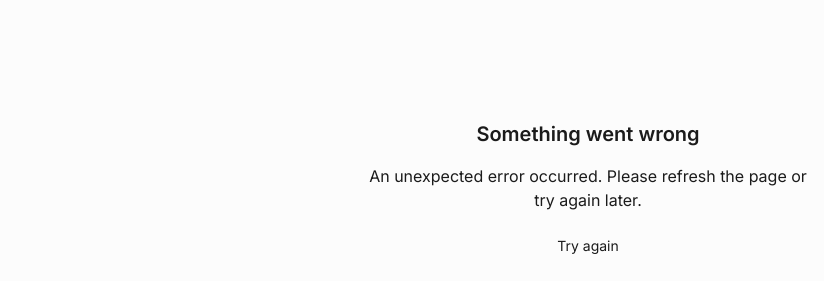
it: ErrorBoundary › recovers after clicking Try again
The image size is (824, 281).
Expected: the heading "Something went wrong" is shown, [476,120,700,148]
Click the button "Try again": (588, 246) [541,228,635,264]
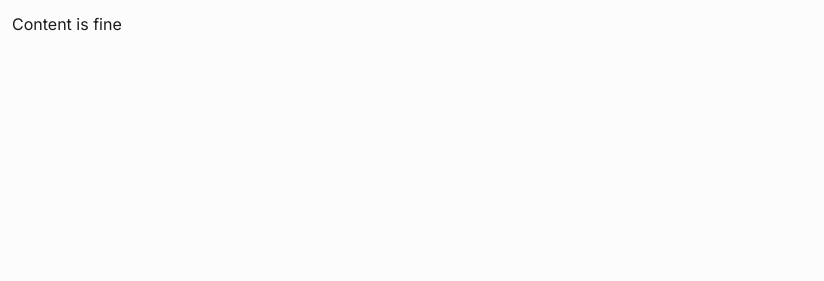
Result: the text "Content is fine" is shown at [12,14,122,34]
